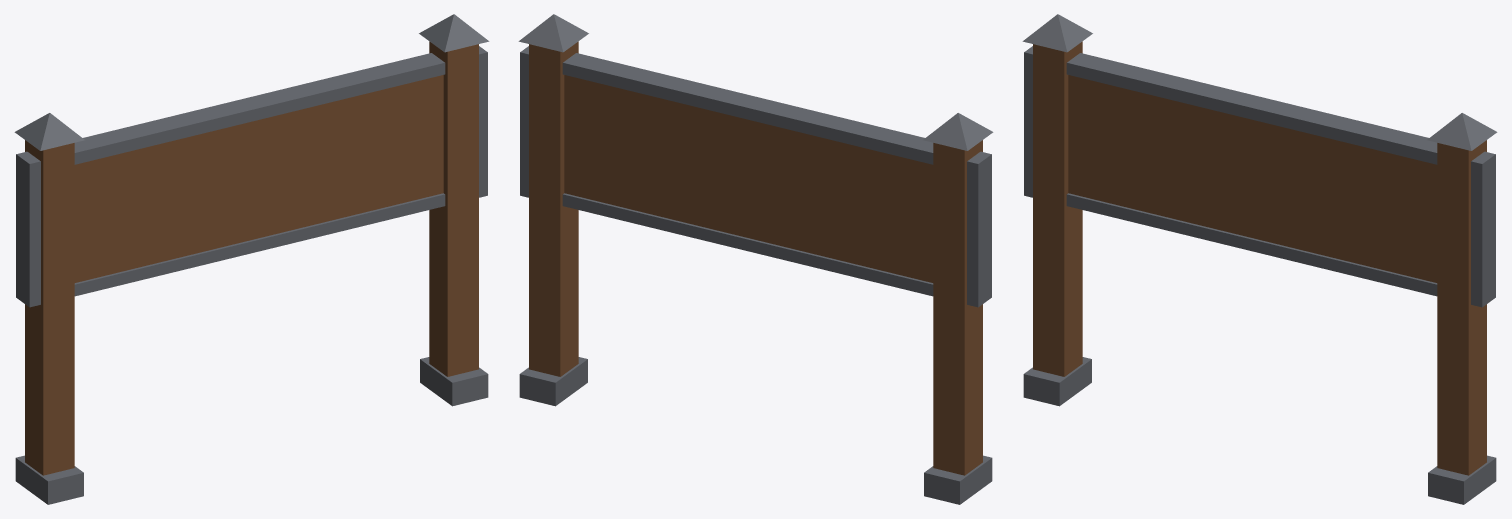
File: SN_Port_Sign.glb
The picture shows the model from 3 angles, left to right: view 1: azimuth 30°, elevation 25°; view 2: azimuth 150°, elevation 25°; view 3: azimuth 330°, elevation 25°; orthographic projection.
Visible parts, largest first — view 1: SN_Port_Sign; view 2: SN_Port_Sign; view 3: SN_Port_Sign.
Boxes of the visible parts, x1,y1,x2,y2 form: SN_Port_Sign: (14, 14, 489, 504); SN_Port_Sign: (518, 14, 993, 504); SN_Port_Sign: (1022, 14, 1497, 504).
Bounding box in the file's own units: 2.04 × 1.6 × 0.25.
